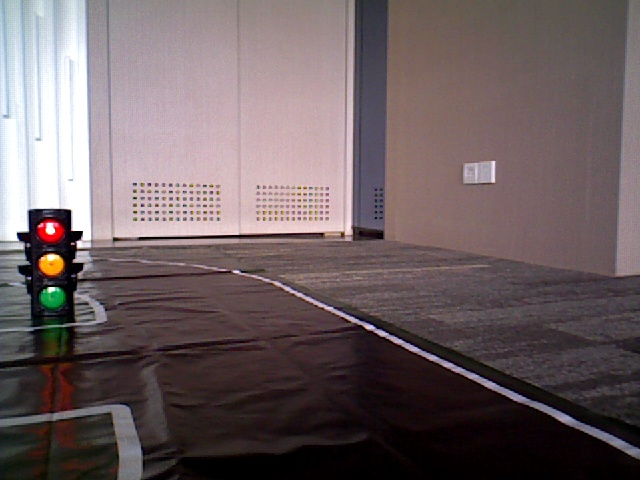red: (31, 215, 70, 317)
